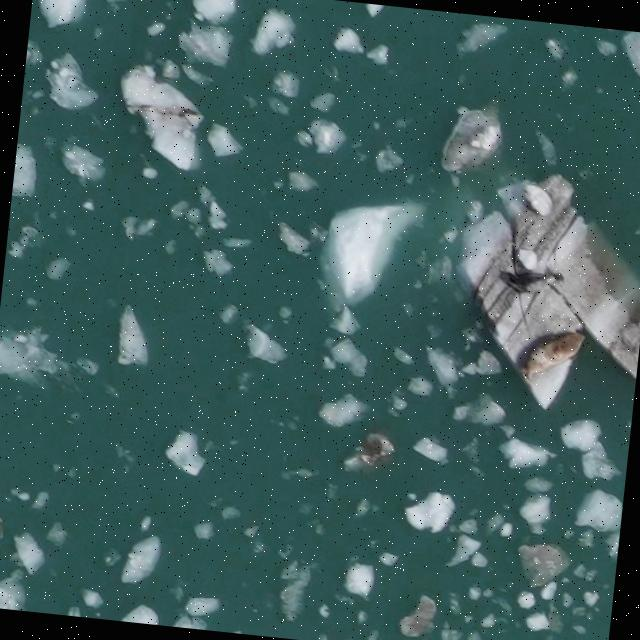seal: (511, 321, 590, 381)
